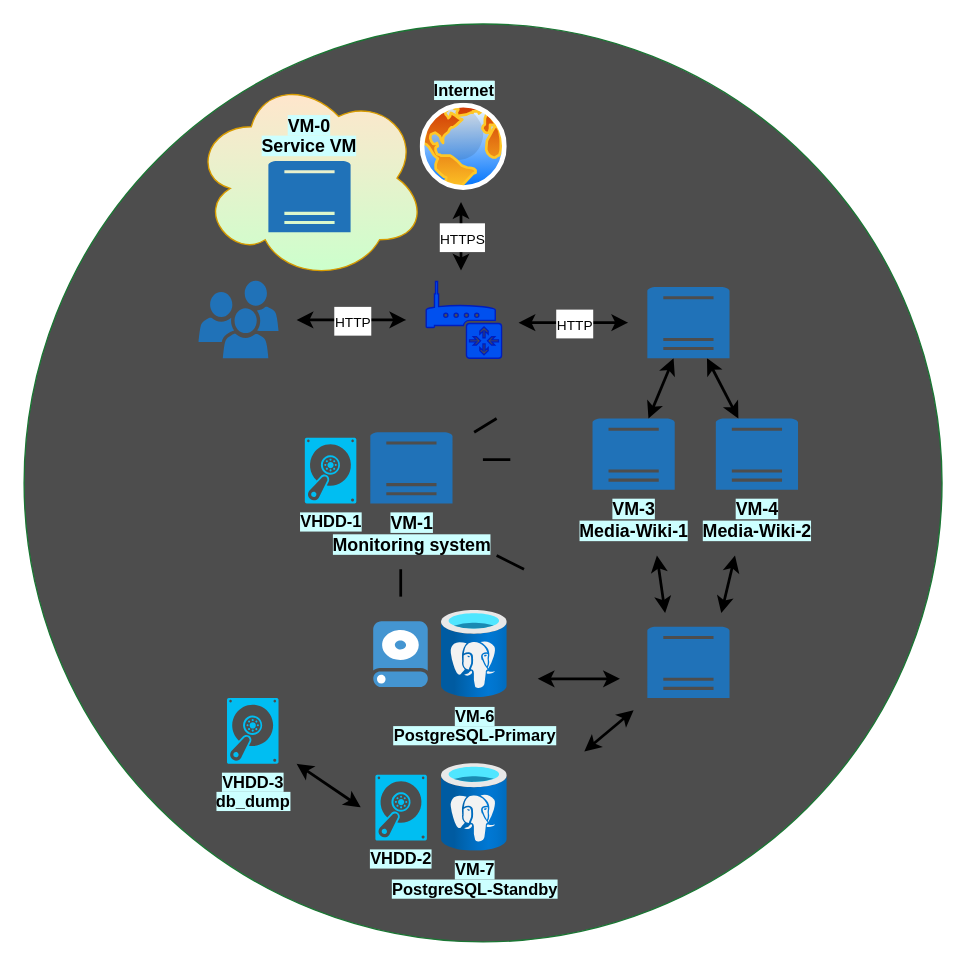
The diagram is 966 pixels wide and 966 high, and some of its shapes have lost their labels. Here are the shapes that lost their labels. From the top down, the centre of each, then its label:
(x=238, y=319): Users
(x=463, y=319): Router
(x=688, y=322): VM-2 Proxy-server
(x=400, y=653): VSSD - 1
(x=688, y=661): VM-5 Proxy-server
